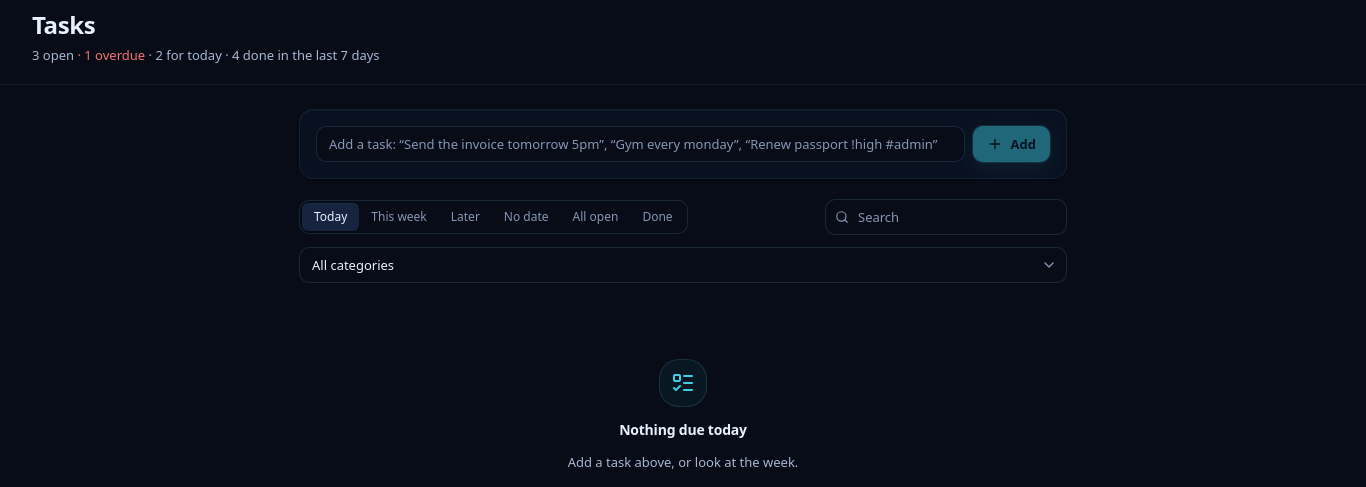
Test: Tasks page › searches across all open tasks and explains an empty result
Expected: the heading "Nothing due today" is shown, [619,419,747,441]
In the field named "Search tasks": [946, 217] box [825,199,1067,235], type "passport"
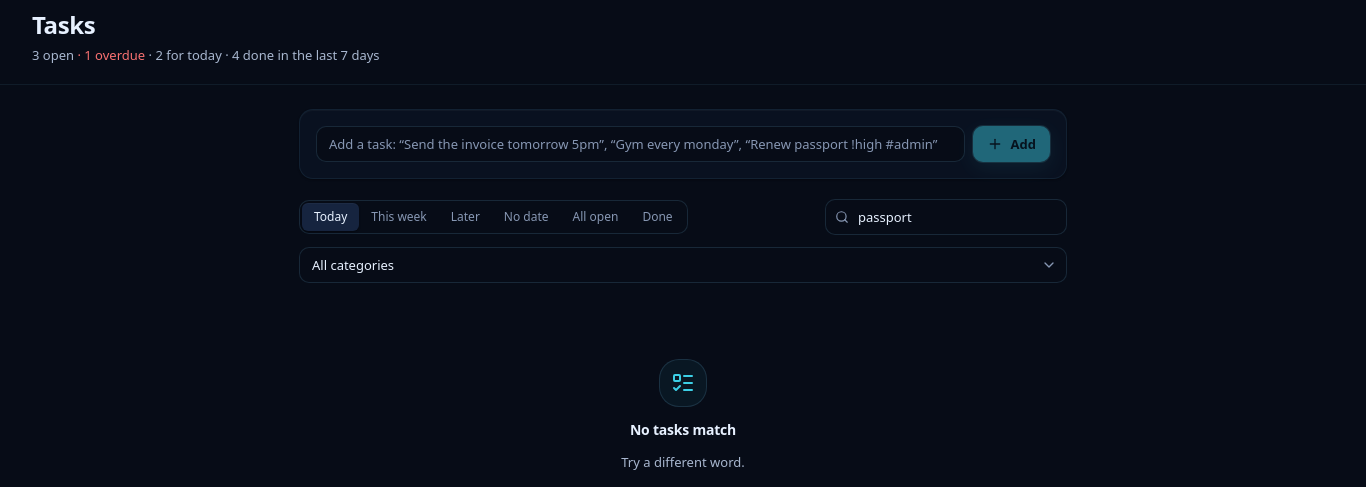
Result: the heading "No tasks match" is shown at [630,419,736,441]
